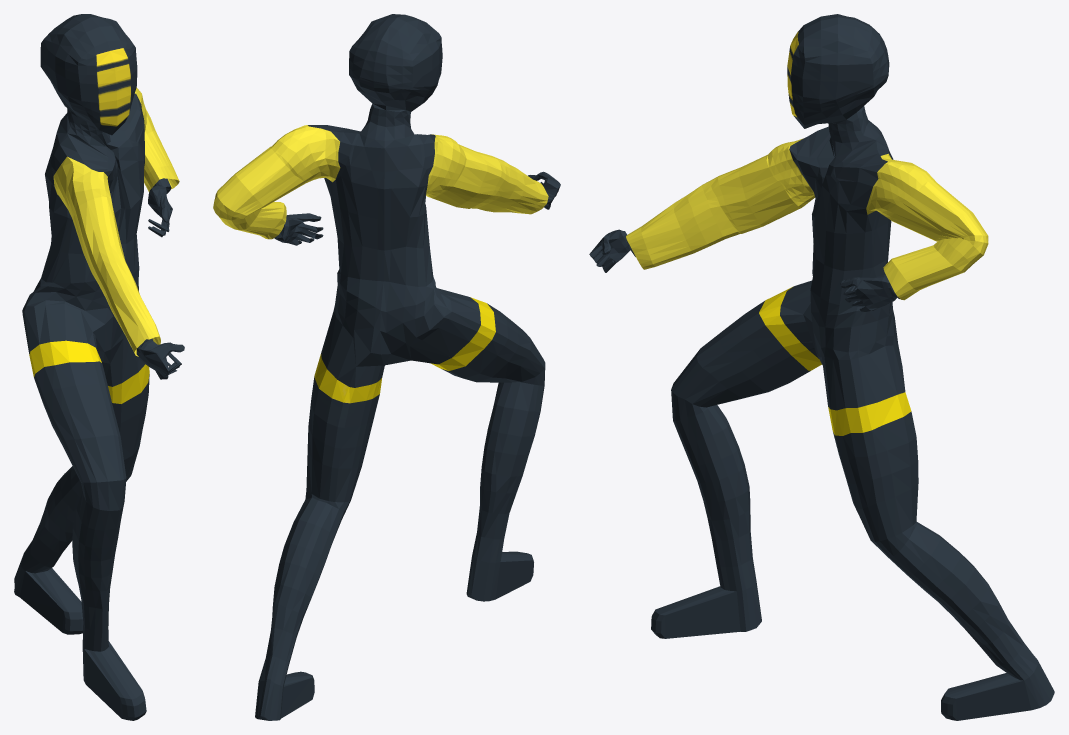
File: Sentry_WB_000005.obj
3 renders of one model, left to right at view 1: azimuth 30°, elevation 25°; view 2: azimuth 150°, elevation 25°; view 3: azimuth 270°, elevation 25°, orthographic. The views are drawn at different scales.
Parts seen in each view (by area): view 1: Cube; view 2: Cube; view 3: Cube.
Part boxes in pixels (box(x1,y1,x2,y2)): Cube: box(14, 14, 184, 720); Cube: box(213, 14, 560, 720); Cube: box(589, 14, 1054, 720).
Size of the model in its own units: 1.19 by 3.72 by 2.31.
